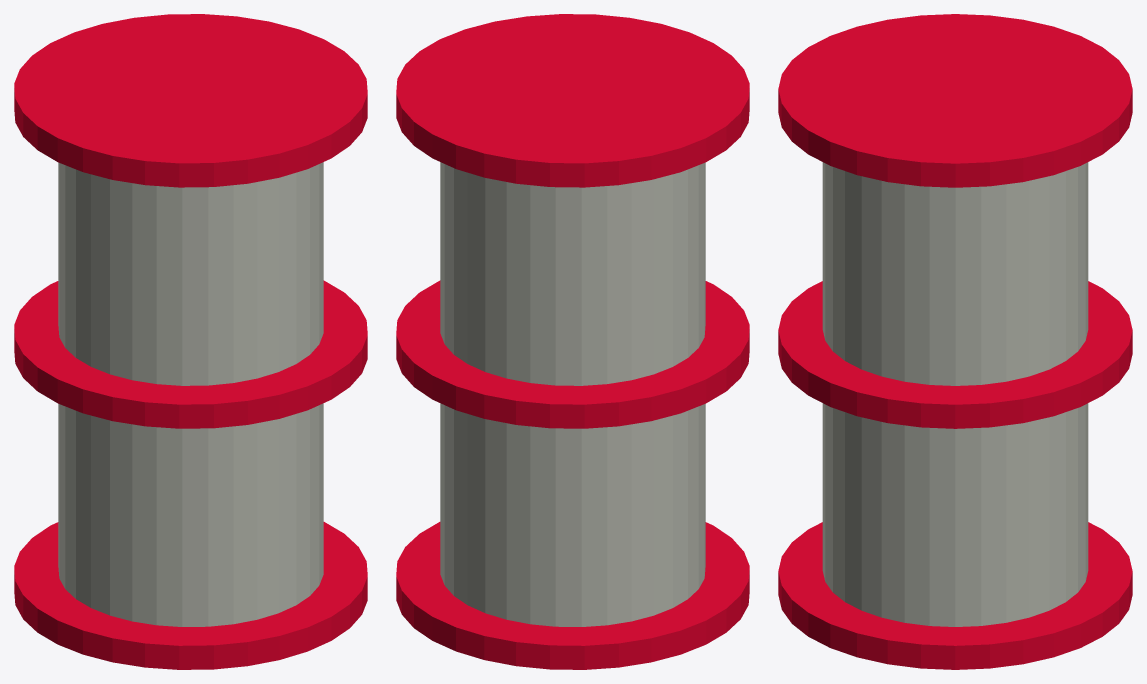
File: ExplosiveBarrel.fbx
3 renders of one model, left to right at view 1: azimuth 30°, elevation 25°; view 2: azimuth 150°, elevation 25°; view 3: azimuth 270°, elevation 25°, orthographic.
Parts seen in each view (by area): view 1: Cylinder; view 2: Cylinder; view 3: Cylinder.
Boxes of the visible parts, <box> form: Cylinder: <box>14,14,367,669</box>; Cylinder: <box>396,14,749,669</box>; Cylinder: <box>778,14,1132,669</box>.
Size of the model in its own units: 192 by 303 by 192.
